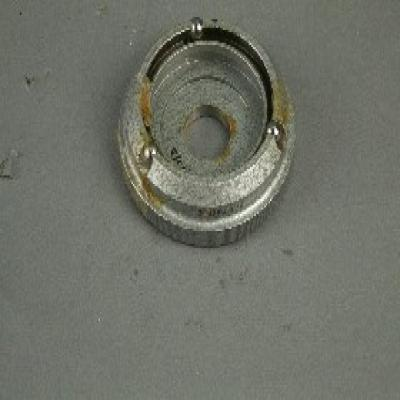technique: (114, 17, 296, 250)
